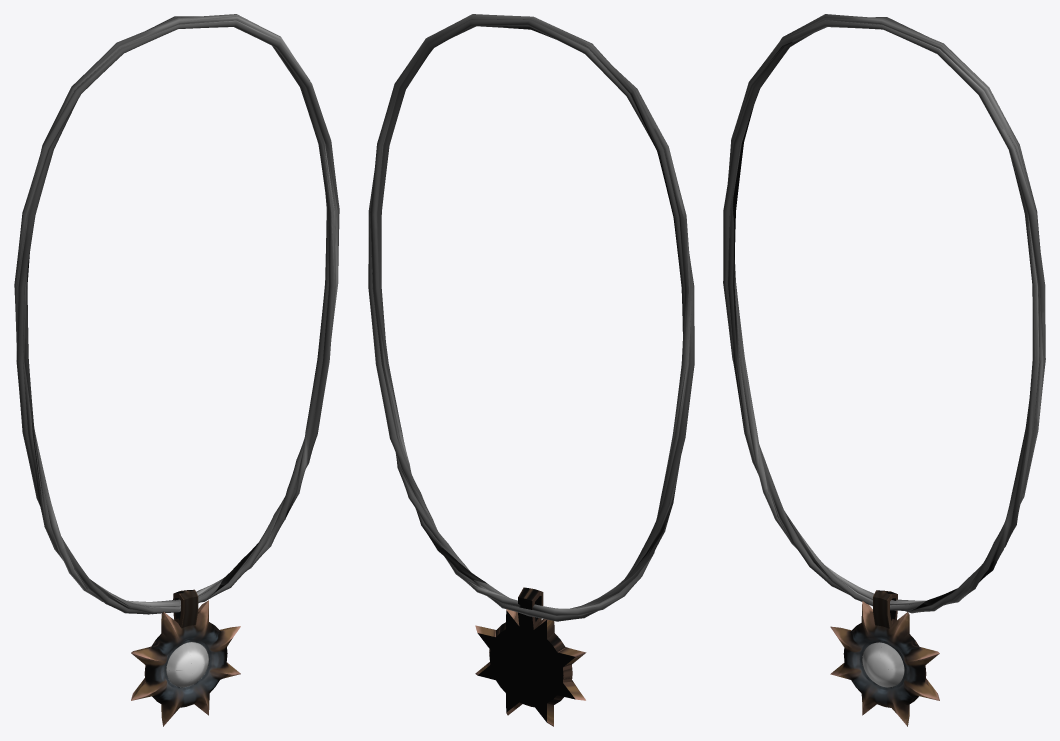
Rendered from talisman.fbx.
3 views of the same model, side by side, from view 1: azimuth 30°, elevation 25°; view 2: azimuth 150°, elevation 25°; view 3: azimuth 330°, elevation 25° (orthographic).
Parts seen in each view (by area): view 1: BezierCircle.006, talisman; view 2: BezierCircle.006, talisman; view 3: BezierCircle.006, talisman.
Boxes of the visible parts, x1,y1,x2,y2 form: BezierCircle.006: (14, 14, 339, 614); talisman: (131, 589, 240, 726); BezierCircle.006: (368, 14, 694, 621); talisman: (475, 587, 586, 726); BezierCircle.006: (723, 14, 1045, 613); talisman: (830, 590, 939, 726).
Size of the model in its own units: 67.4 by 140 by 5.01.
Materials: 2 (2 with a texture image).
